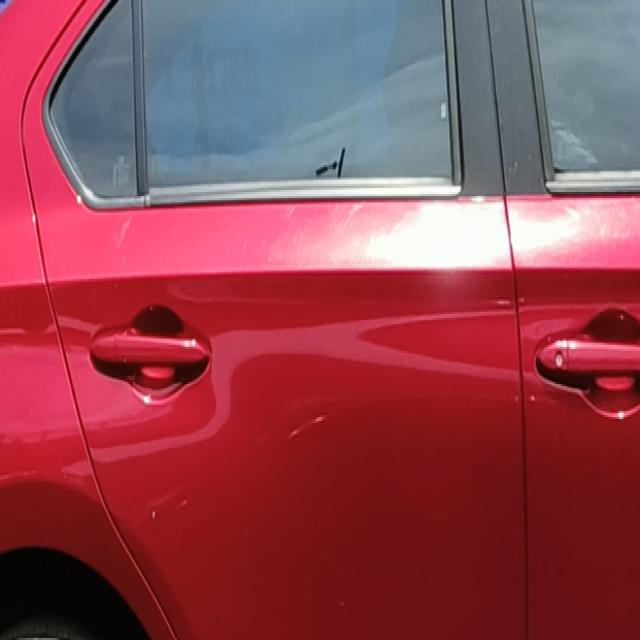scratch: (139, 486, 204, 532), (281, 403, 344, 442)
